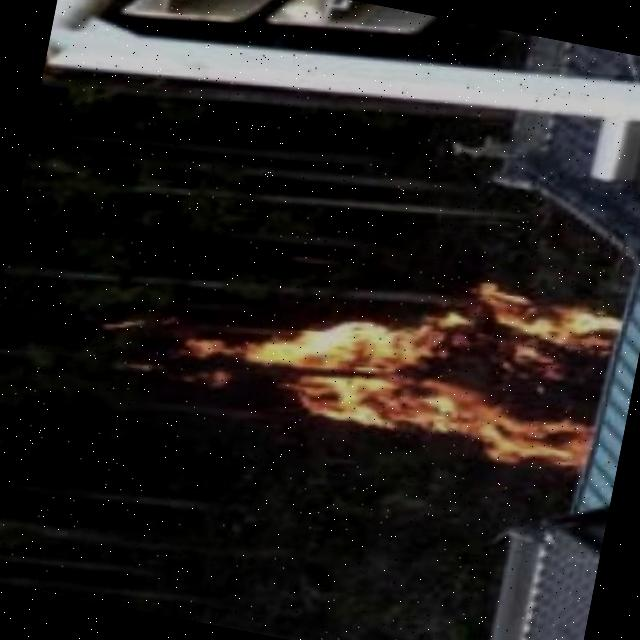fire: (145, 204, 627, 514)
